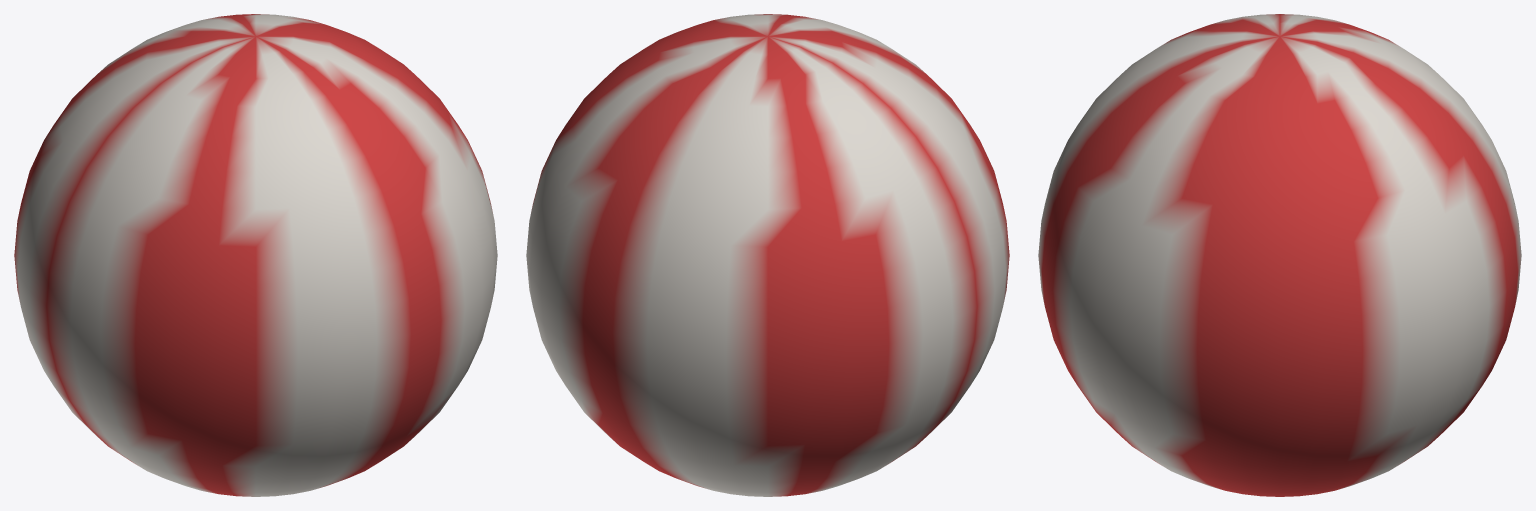
File: Park_Ball.fbx
3 renders of one model, left to right at view 1: azimuth 30°, elevation 25°; view 2: azimuth 150°, elevation 25°; view 3: azimuth 270°, elevation 25°, orthographic.
Visible parts, largest first — view 1: Park_Ball; view 2: Park_Ball; view 3: Park_Ball.
Part boxes in pixels (box(x1,y1,x2,y2)): Park_Ball: box(14, 14, 497, 496); Park_Ball: box(526, 14, 1009, 496); Park_Ball: box(1038, 14, 1521, 496).
Bounding box in the file's own units: 4.8 × 4.8 × 4.8.
